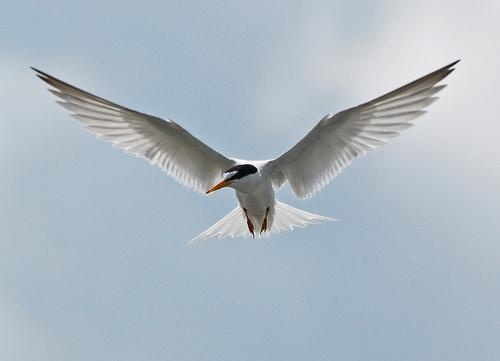bird: (23, 57, 463, 244)
